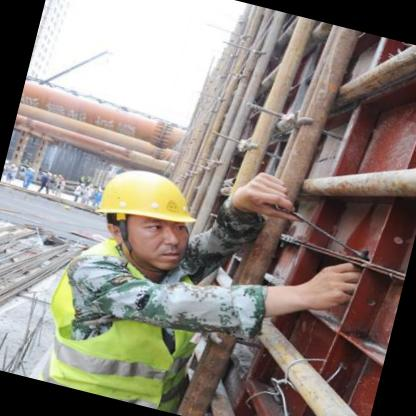helmet: (74, 152, 222, 288)
